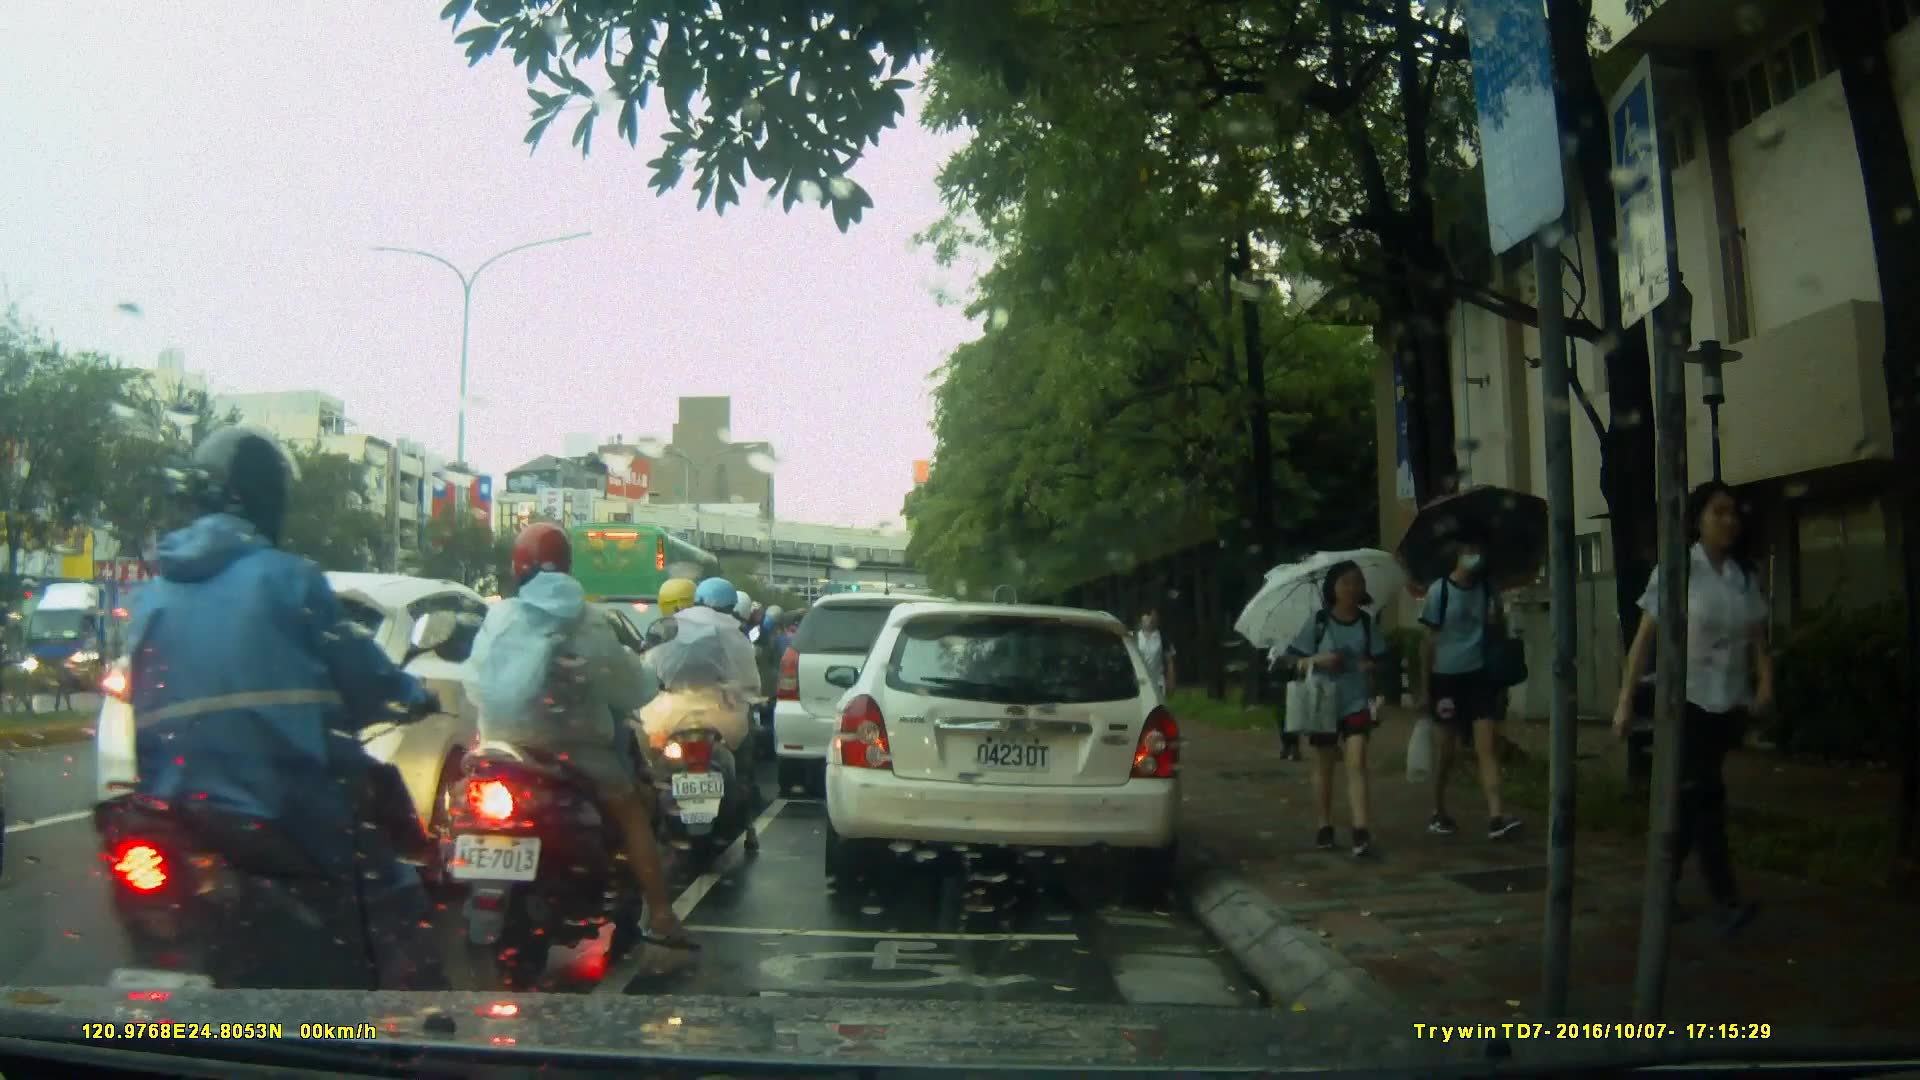pedestrian: (1638, 470, 1777, 935), (1406, 521, 1534, 853), (1288, 550, 1411, 871), (1267, 571, 1318, 770), (1125, 596, 1177, 758)
rider: (51, 423, 437, 1059), (444, 519, 708, 972), (624, 583, 774, 864), (666, 590, 763, 801)
vehicle: (101, 569, 599, 883), (822, 604, 1187, 883), (774, 595, 995, 802), (559, 521, 742, 664), (20, 576, 199, 697)
